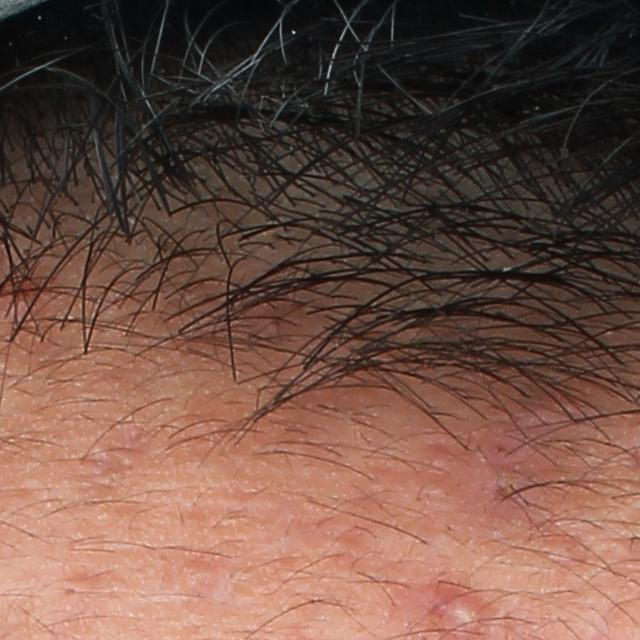comedo: (61, 581, 81, 600)
